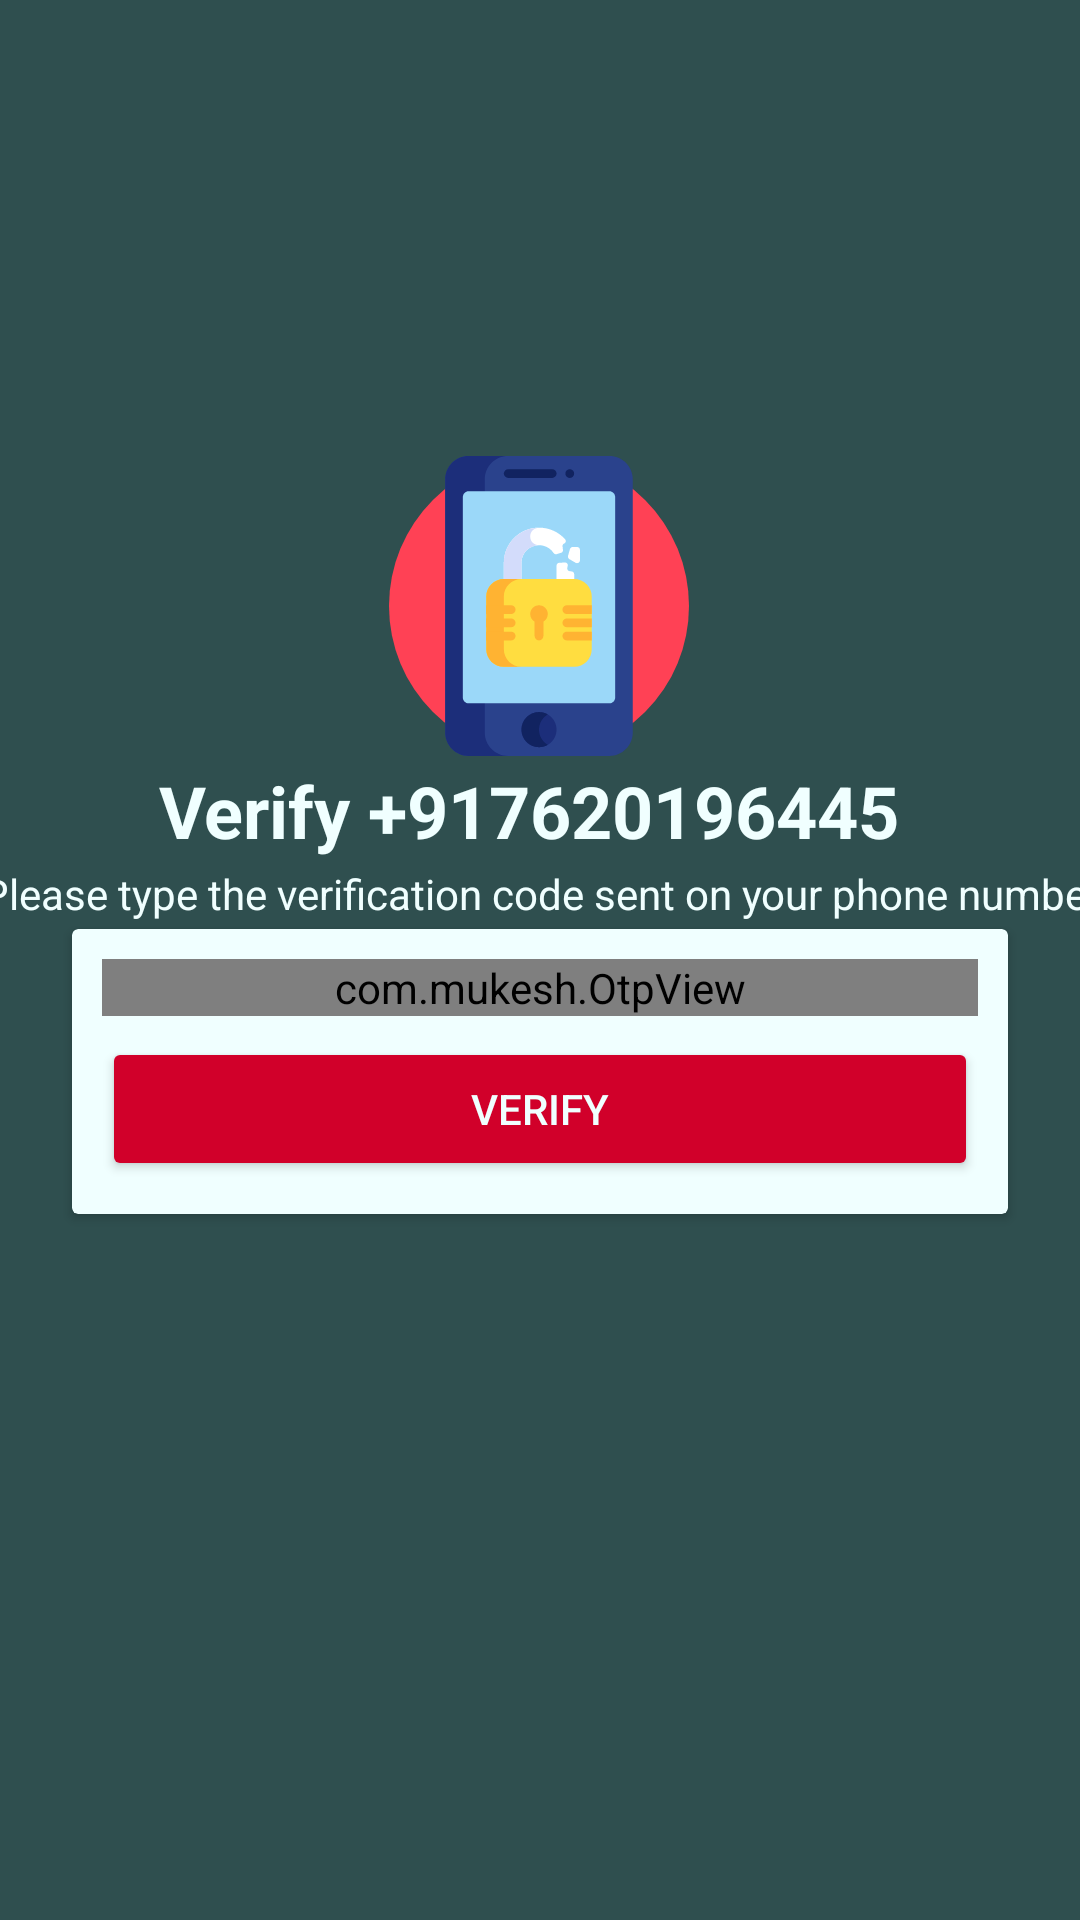

Icons on this 1080x1920 Android screen, each with its box as (x1, y1, x2, y2):
hacked: (389, 456, 689, 756)
